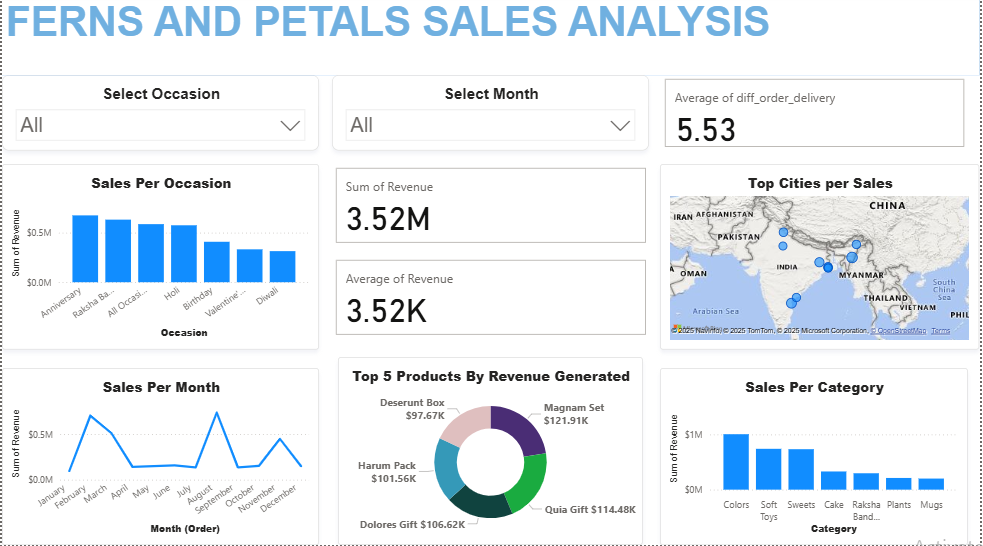

This screenshot's page, from the dashboard's own definition file:
{"tool":"powerbi","page":{"name":"DashBoard","canvas":[1280,720],"ordinal":0},"visuals":[{"type":"clusteredColumnChart","title":"Sales Per Occasion","fields":{"Y":["Sum(orders.Revenue)"],"Category":["products.Occasion"]},"box":[0,220.7,415.2,242.8],"z":0},{"type":"clusteredColumnChart","title":"Sales Per Category","fields":{"Y":["Sum(orders.Revenue)"],"Category":["products.Category"]},"box":[861.9,487.7,402.6,232.3],"z":1000},{"type":"lineChart","title":"Sales Per Month","fields":{"Y":["Sum(orders.Revenue)"],"Category":["orders.Month (Order)"]},"box":[0,487.7,415.5,232.3],"z":2000},{"type":"donutChart","title":"Top 5 Products By Revenue Generated","fields":{"Category":["products.Product_Name"],"Y":["Sum(orders.Revenue)"]},"box":[449,487.7,398.7,232.3],"z":3000},{"type":"map","title":"Top Cities per Sales","fields":{"Category":["Customers.City"],"Size":["Sum(orders.Revenue)"]},"box":[861.9,220.6,418.1,242.6],"z":4000},{"type":"slicer","fields":{"Values":["orders.Occasion"]},"box":[0,115.9,415.2,88.3],"z":5000},{"type":"cardVisual","fields":{"Data":["Avg(orders.Revenue)"]},"box":[449.7,342.1,389,126.9],"z":6000},{"type":"cardVisual","fields":{"Data":["Avg(orders.diff_order_delivery)"]},"box":[862.1,104.8,402.8,99.3],"z":7000},{"type":"cardVisual","fields":{"Data":["Sum(orders.Revenue)"]},"box":[440,220.7,398.6,109],"z":8000},{"type":"shape","box":[0,0,1280,104.8],"z":8001},{"type":"textbox","box":[0,0,1280,104.8],"z":8002},{"type":"slicer","fields":{"Values":["orders.Month (Order)"]},"box":[431.7,115.9,415.2,88.3],"z":8003}]}

Visuals, with their boxes in screenshot pixels (x1, y1, x2, y2), scaled from the page's 1280x720 canvas onto the 983x546 screenshot:
"Sales Per Occasion" clusteredColumnChart: Rect(0, 167, 319, 351)
"Sales Per Category" clusteredColumnChart: Rect(662, 370, 971, 545)
"Sales Per Month" lineChart: Rect(0, 370, 319, 545)
"Top 5 Products By Revenue Generated" donutChart: Rect(345, 370, 651, 545)
"Top Cities per Sales" map: Rect(662, 167, 982, 351)
slicer - orders.Occasion: Rect(0, 88, 319, 155)
cardVisual - Avg(orders.Revenue): Rect(345, 259, 644, 356)
cardVisual - Avg(orders.diff_order_delivery): Rect(662, 79, 971, 155)
cardVisual - Sum(orders.Revenue): Rect(338, 167, 644, 250)
shape: Rect(0, 0, 982, 79)
textbox: Rect(0, 0, 982, 79)
slicer - orders.Month (Order): Rect(332, 88, 650, 155)
